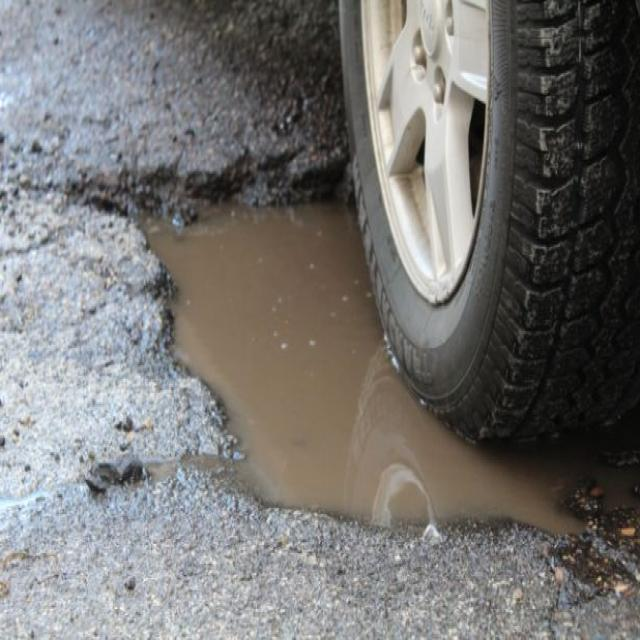pothole: (73, 154, 584, 556)
